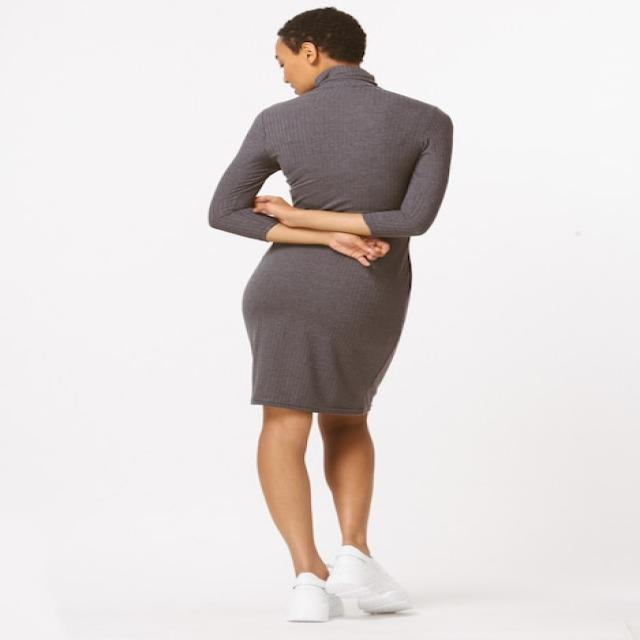Person: (210, 8, 452, 624)
